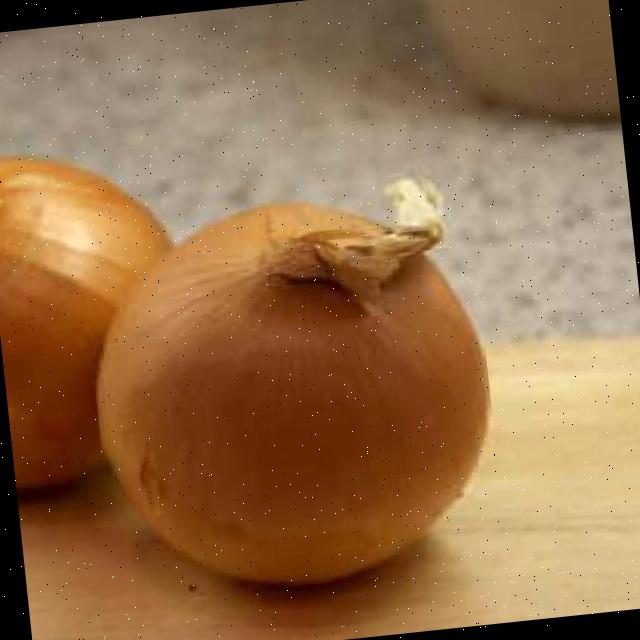Onion: (97, 179, 489, 584), (0, 156, 169, 489)
